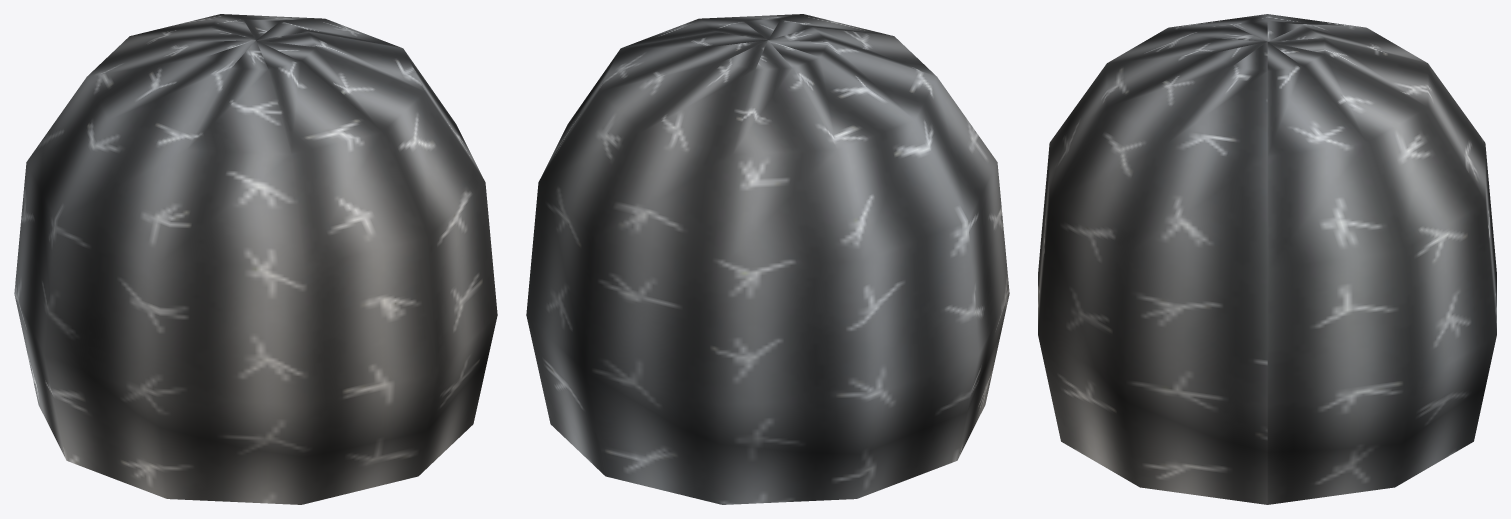
The model's file is cactus_barrel_l1.gltf.
The picture shows the model from 3 angles, left to right: view 1: azimuth 30°, elevation 25°; view 2: azimuth 150°, elevation 25°; view 3: azimuth 270°, elevation 25°; orthographic projection.
Parts seen in each view (by area): view 1: cactus_barrel_l1; view 2: cactus_barrel_l1; view 3: cactus_barrel_l1.
Boxes of the visible parts, box(x1,y1,x2,y2) form: cactus_barrel_l1: box(14, 14, 497, 504); cactus_barrel_l1: box(526, 14, 1009, 504); cactus_barrel_l1: box(1038, 14, 1496, 504).
Bounding box in the file's own units: 0.9 × 0.815 × 0.856.
Materials: 1 (1 with a texture image).
